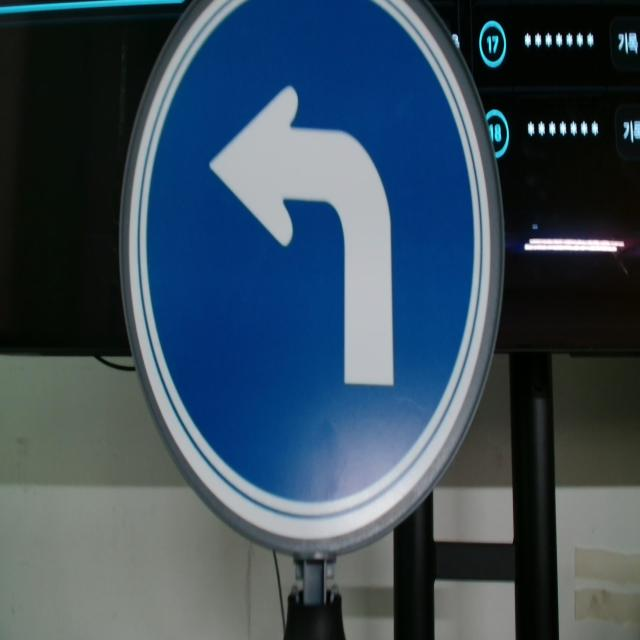left_direction: (120, 0, 505, 556)
